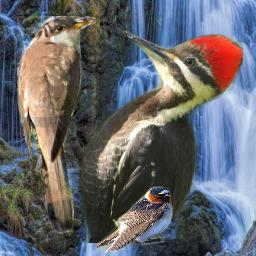Cuckoo: (17, 16, 95, 232)
Swallow: (95, 186, 173, 255)
Woodpecker: (48, 30, 243, 243)
